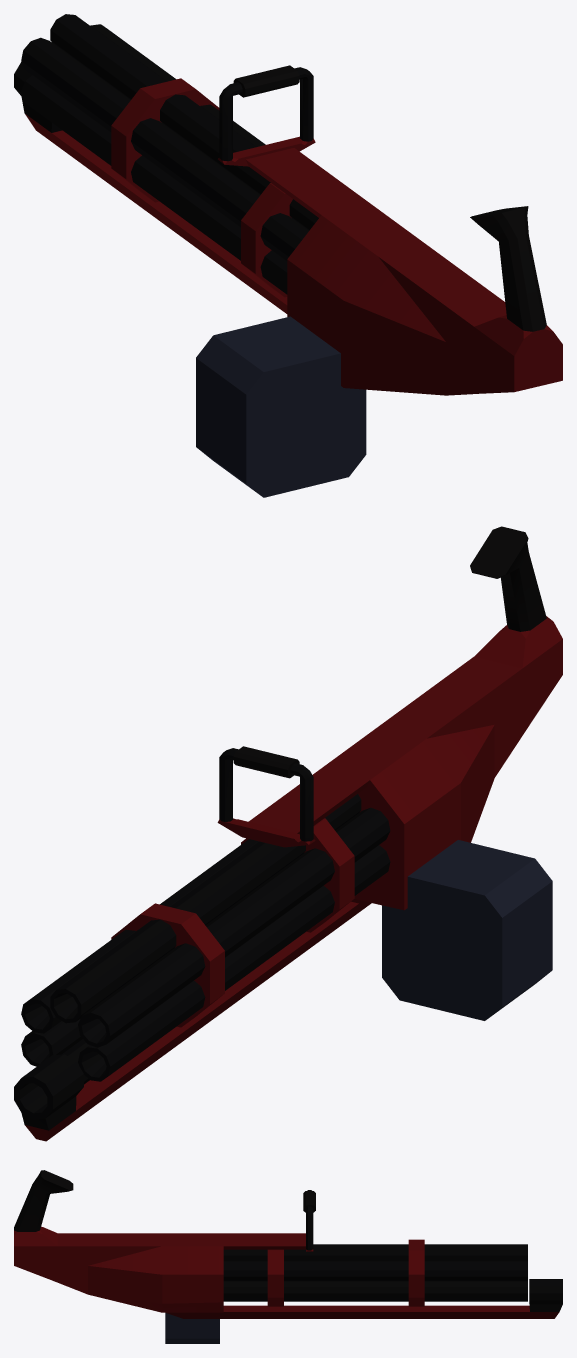
Rendered from minigun.fbx.
The picture shows the model from 3 angles, top to bottom: view 1: azimuth 30°, elevation 25°; view 2: azimuth 150°, elevation 25°; view 3: azimuth 270°, elevation 25°; orthographic projection. The views are drawn at different scales.
Parts seen in each view (by area): view 1: Chassis (×3), Barrels, Mag, Cylinder.002, Cylinder.003; view 2: Chassis (×3), Barrels, Mag, Cylinder.002, Cylinder.003; view 3: Chassis (×3), Barrels, Mag, Cylinder.002, Cylinder.003.
Part boxes in pixels (x1,y1,x2,y2): Chassis (×3): [14, 62, 562, 395]; Barrels: [21, 14, 318, 294]; Mag: [196, 316, 366, 497]; Cylinder.002: [111, 78, 219, 202]; Cylinder.003: [241, 183, 292, 297]; Chassis (×3): [14, 526, 562, 1141]; Barrels: [21, 794, 390, 1084]; Mag: [382, 840, 552, 1020]; Cylinder.002: [111, 903, 224, 1027]; Cylinder.003: [241, 818, 354, 932]; Chassis (×3): [14, 1170, 562, 1318]; Barrels: [223, 1244, 527, 1301]; Mag: [165, 1313, 219, 1343]; Cylinder.002: [408, 1239, 424, 1306]; Cylinder.003: [267, 1249, 283, 1306].
Bounding box in the file's own units: 48.48 × 74 × 200.
